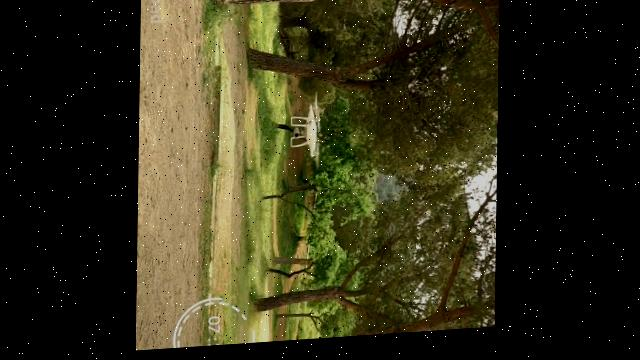drone: (289, 93, 324, 174)
